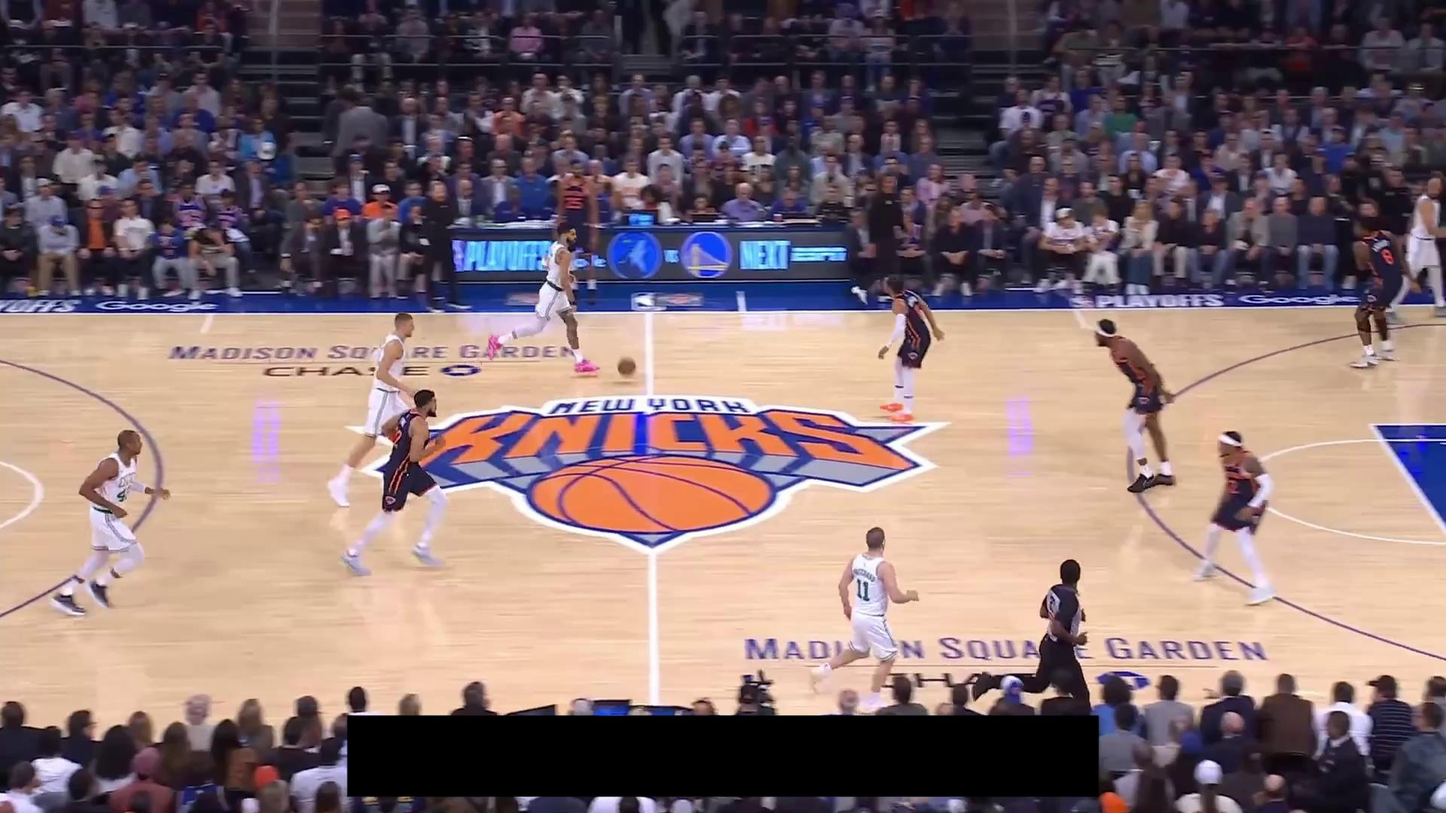ball: (617, 357, 636, 376)
number: (856, 578, 870, 601), (1381, 249, 1395, 265)
player: (50, 428, 172, 618), (807, 525, 923, 711), (340, 388, 450, 578), (328, 311, 426, 510), (1189, 427, 1281, 609), (1091, 316, 1182, 495), (1341, 212, 1424, 370), (876, 273, 946, 423), (1381, 175, 1446, 327)
player-in-possession: (487, 221, 601, 375)
referee: (1001, 559, 1092, 709)
